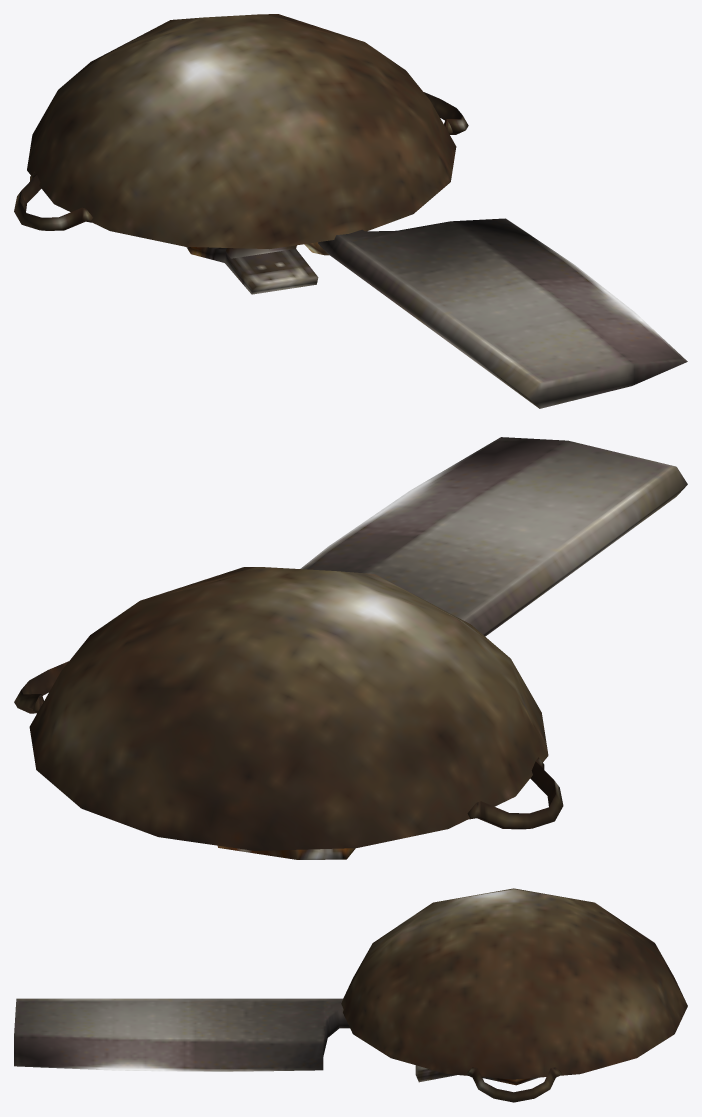
The model's file is we088_amh.OBJ.
The picture shows the model from 3 angles, top to bottom: view 1: azimuth 30°, elevation 25°; view 2: azimuth 150°, elevation 25°; view 3: azimuth 270°, elevation 25°; orthographic projection. The views are drawn at different scales.
Visible parts, largest first — view 1: mesh_1, mesh_0; view 2: mesh_1, mesh_0; view 3: mesh_1, mesh_0.
Part boxes in pixels (x1,y1,x2,y2): mesh_1: [14, 14, 468, 294]; mesh_0: [304, 218, 687, 408]; mesh_1: [14, 567, 563, 859]; mesh_0: [300, 437, 687, 636]; mesh_1: [341, 888, 687, 1102]; mesh_0: [14, 998, 349, 1071].
Size of the model in its own units: 65.69 by 30.36 by 108.
1 material, 1 textured.
